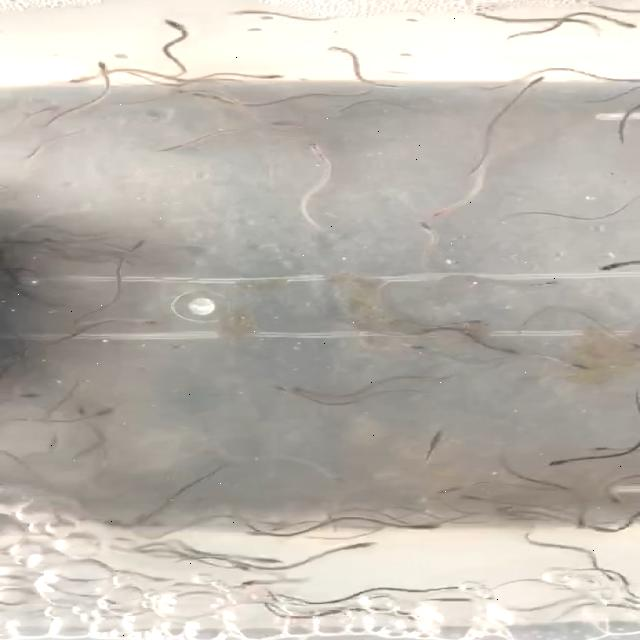active_glass_eel: (376, 606, 424, 622), (246, 72, 290, 86), (66, 74, 108, 87), (422, 428, 448, 448), (342, 541, 382, 554), (606, 16, 638, 32), (594, 260, 632, 273), (168, 87, 208, 99), (268, 384, 304, 397), (160, 16, 187, 33), (451, 493, 489, 505), (230, 578, 266, 590), (528, 277, 560, 290), (245, 555, 286, 565), (545, 458, 579, 470), (408, 522, 442, 534), (469, 5, 498, 19), (408, 342, 444, 353), (302, 140, 326, 156), (416, 222, 440, 238), (560, 359, 592, 371), (324, 470, 348, 486), (240, 528, 278, 538), (603, 488, 624, 506), (611, 339, 640, 352), (426, 206, 454, 219), (328, 43, 352, 58), (91, 58, 111, 76), (430, 485, 466, 495), (94, 444, 112, 464), (42, 434, 62, 452), (524, 76, 546, 92), (39, 102, 65, 115), (159, 142, 187, 154), (44, 236, 76, 246), (492, 503, 520, 514), (128, 237, 146, 254), (126, 316, 160, 325), (290, 385, 316, 396), (68, 404, 88, 418), (460, 318, 488, 328), (21, 148, 43, 160), (330, 104, 352, 116), (226, 562, 252, 572), (268, 523, 294, 533), (487, 347, 519, 355), (190, 92, 214, 102), (93, 406, 117, 416), (598, 570, 618, 582), (574, 516, 588, 532), (16, 392, 46, 399), (492, 216, 511, 227), (584, 446, 614, 452)
